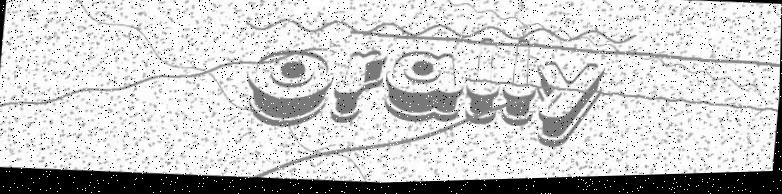a: (382, 51, 467, 127)
l: (463, 41, 504, 130), (501, 42, 541, 131)
o: (244, 48, 336, 132)
r: (330, 50, 385, 127)
y: (532, 64, 604, 153)
